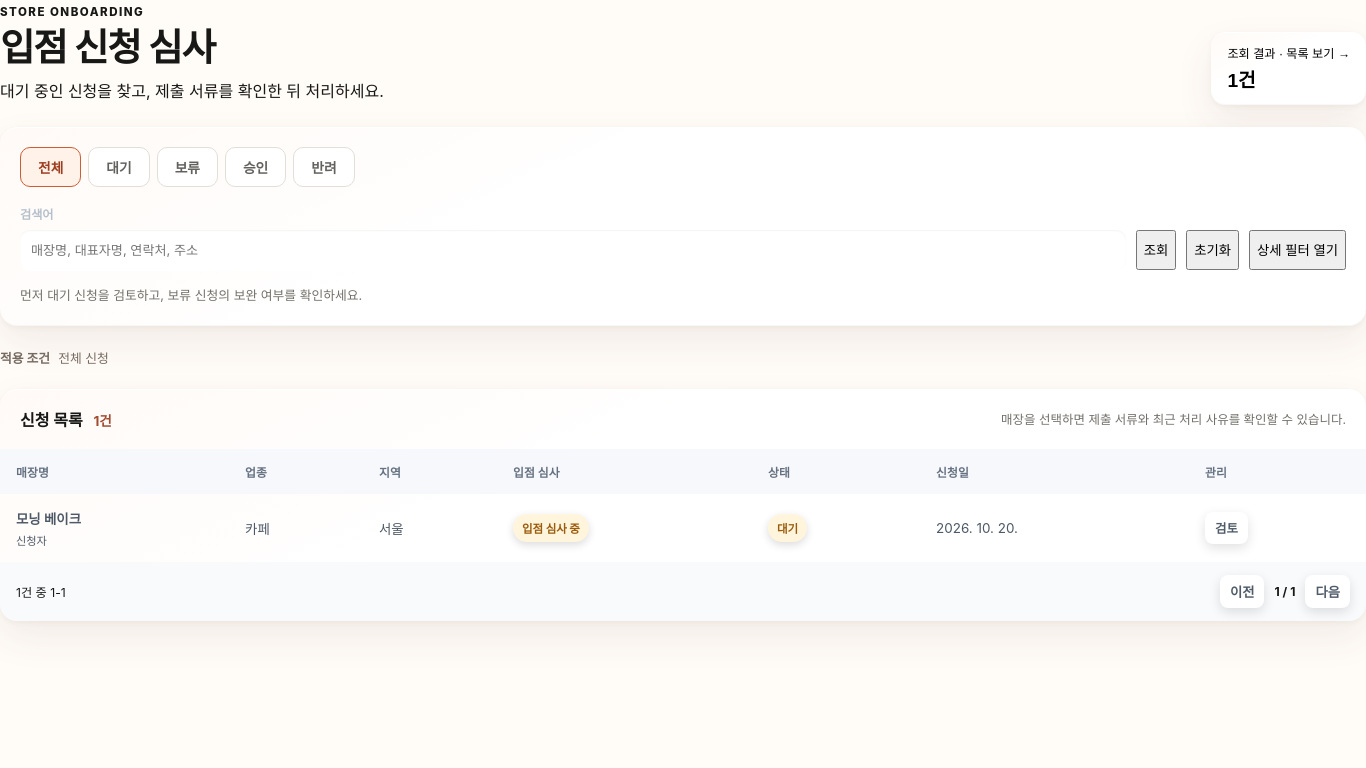
it: approval detail status opens its evidence list without approving the store
Click the button "검토".
click(1226, 528)  # box [1205,512,1248,544]
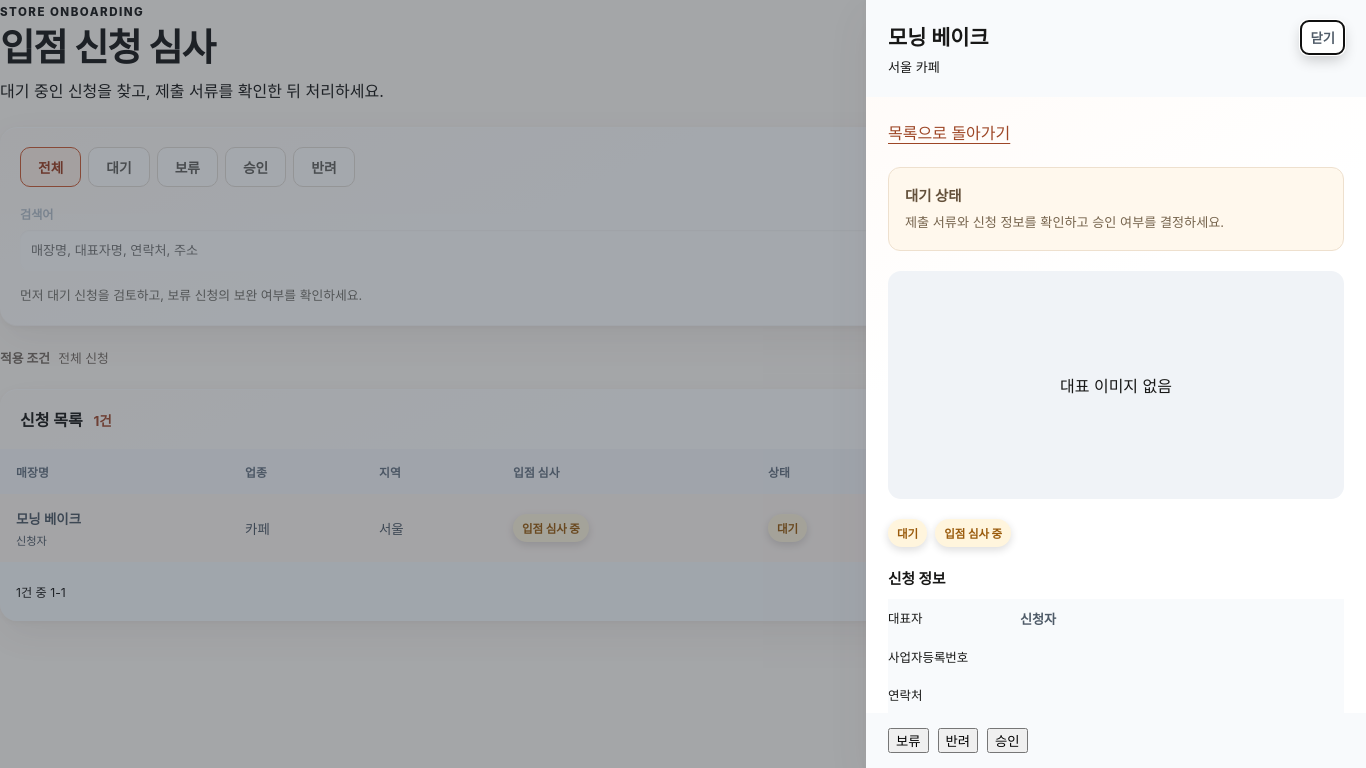
Click the button with aria-label "입점 심사 중 신청 목록 보기".
click(973, 533)  # box [935,519,1011,547]
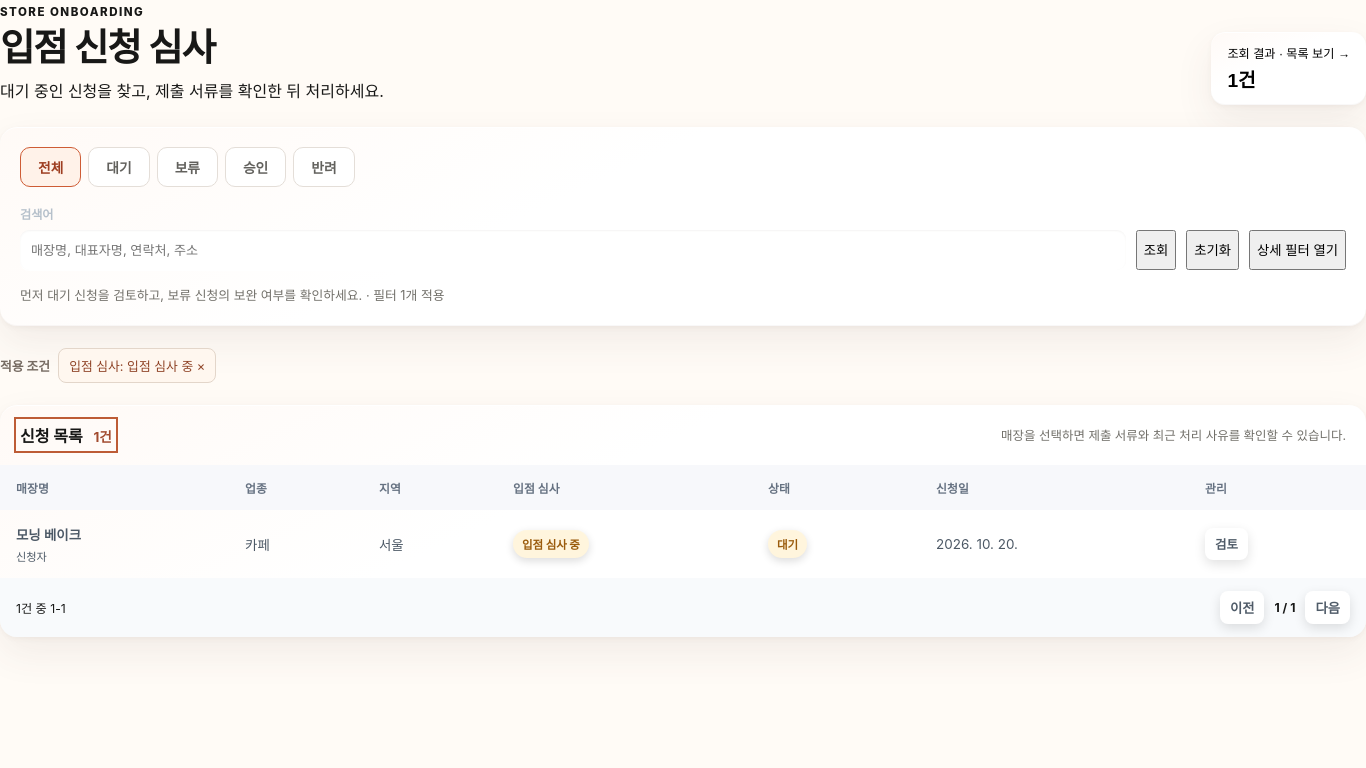
Expected: the dialog is gone
